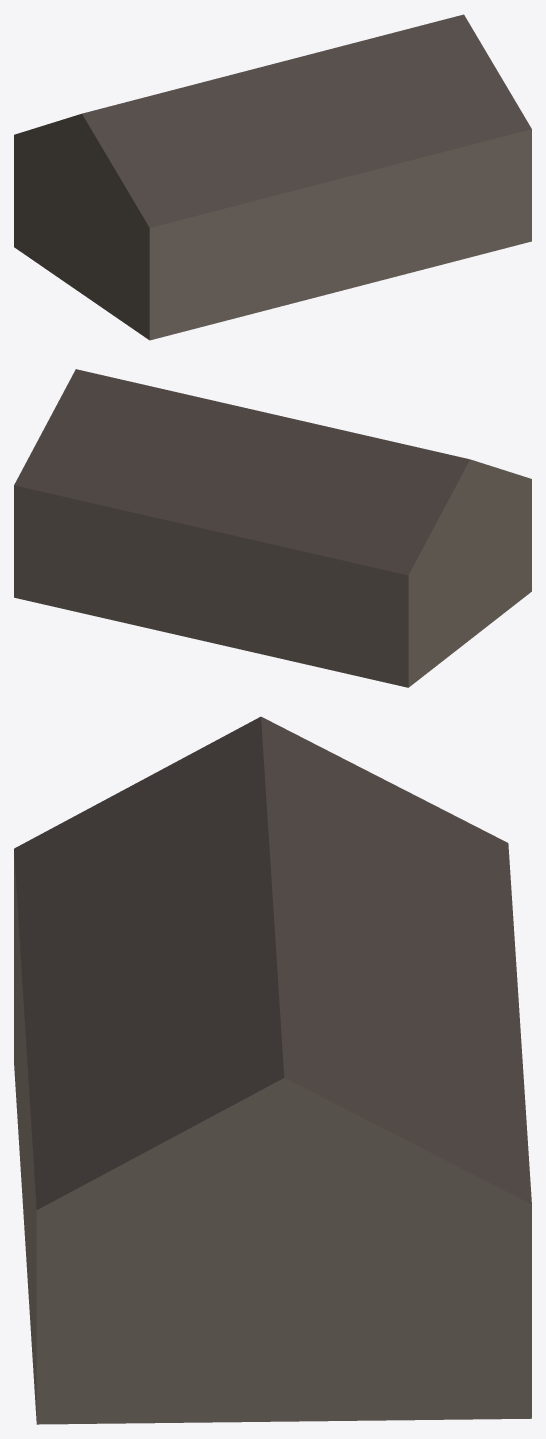
3 views of the same model, one above another, from view 1: azimuth 30°, elevation 25°; view 2: azimuth 150°, elevation 25°; view 3: azimuth 270°, elevation 25° (orthographic). The views are drawn at different scales.
Parts seen in each view (by area): view 1: HP-w389701874; view 2: HP-w389701874; view 3: HP-w389701874.
Part boxes in pixels (x1=…): HP-w389701874: x1=14, y1=14, x2=531, y2=340; HP-w389701874: x1=14, y1=369, x2=531, y2=687; HP-w389701874: x1=14, y1=716, x2=531, y2=1424.
Size of the model in its own units: 11.02 by 4.82 by 6.57.
